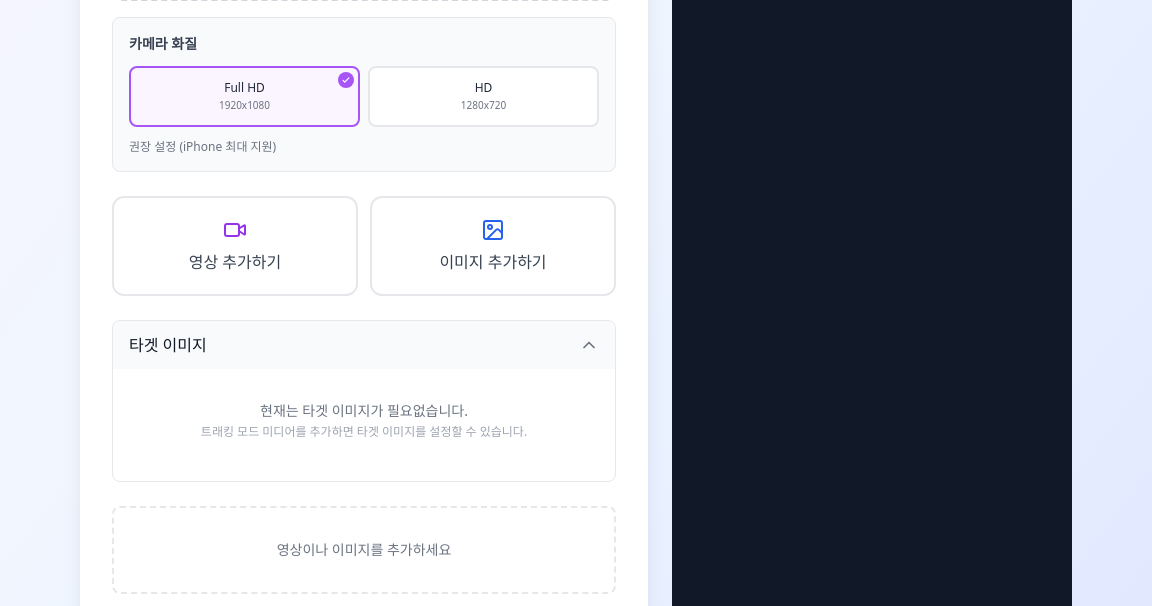
Scenario: CreateProjectPage › Media Item Addition › should add video item when clicking add video button
(page scrolled)
영상 추가 버튼 클릭
Click the button "영상 추가하기". click: (235, 246)
box: [112,196,358,296]
(page scrolled)
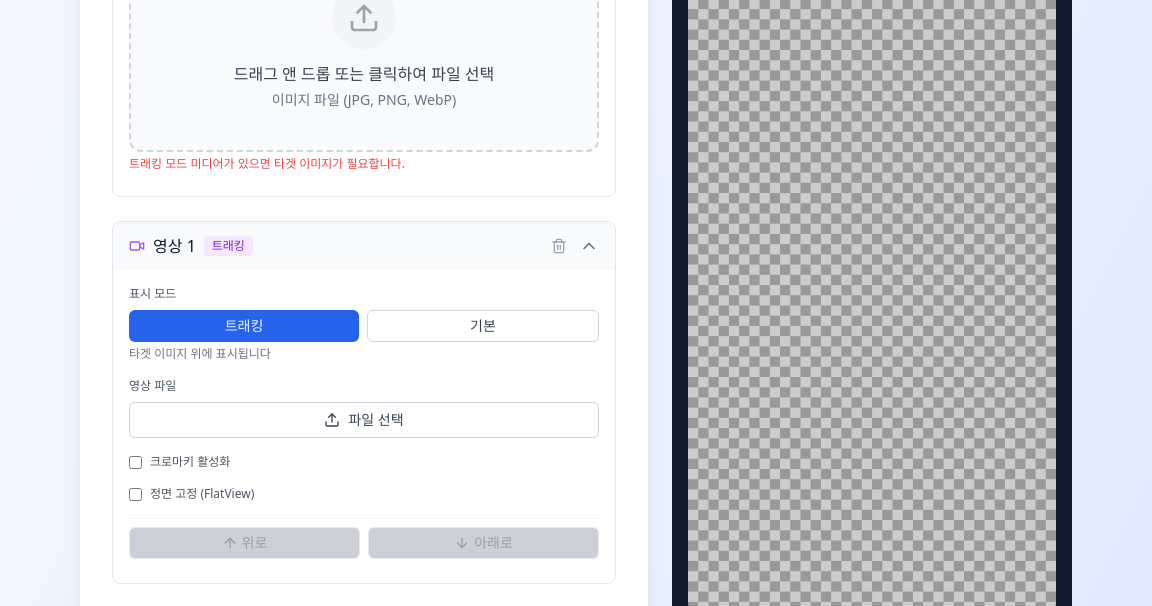
Now the text "영상 1" is shown, box [153,234,196,258]
